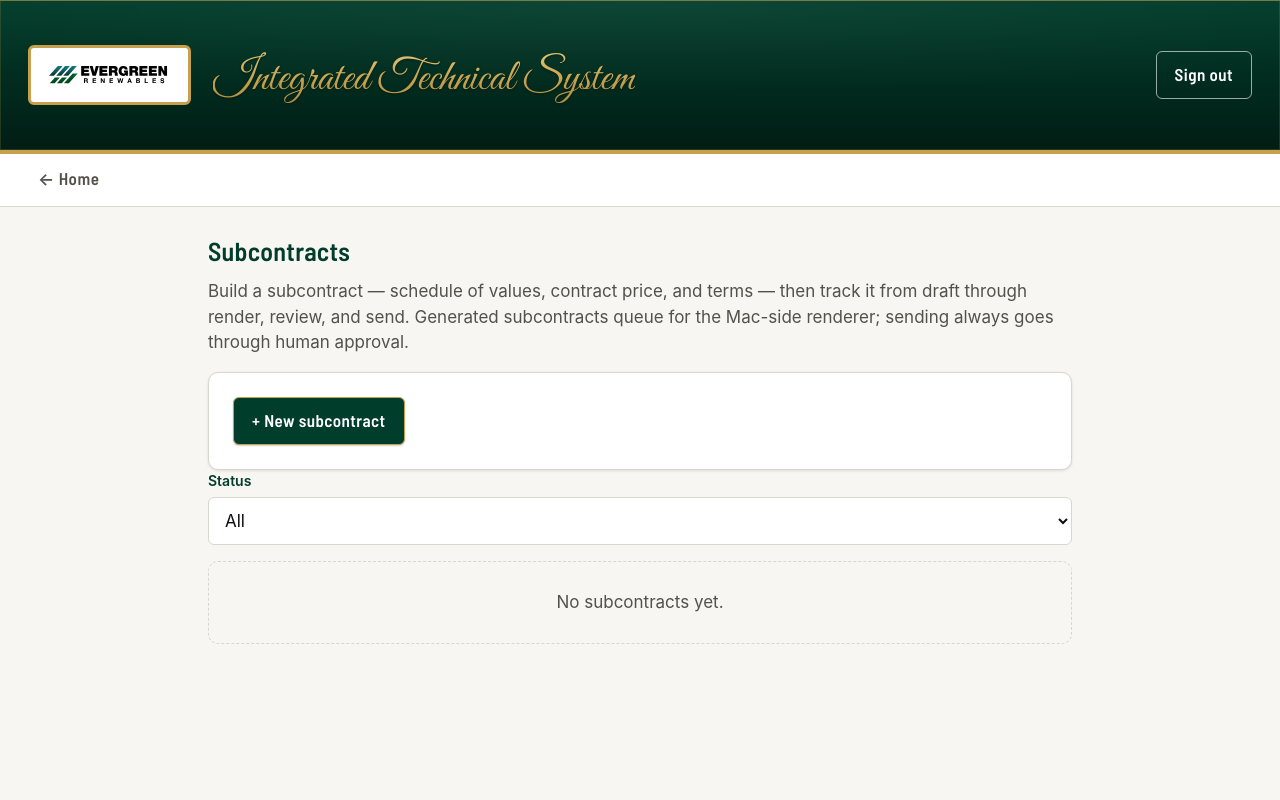
Scenario: SubcontractBuilderPage › suggests the job number from the YYYY.NNN project-name prefix (editable)
Step 1. Click the button "+ New subcontract" → (319, 421), box left=233, top=397, right=404, bottom=445
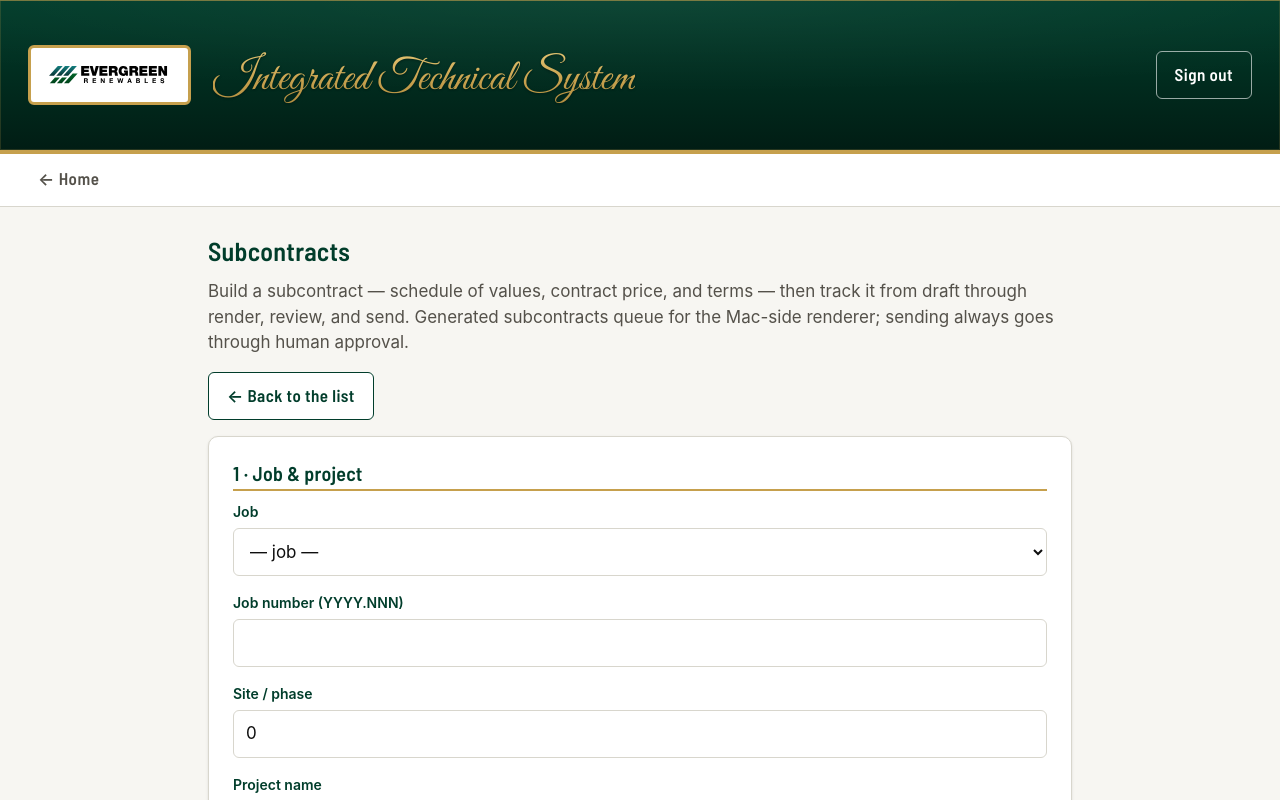
Step 2. Select "2023.126 Kendall Solar" in the dropdown labelled "Job" → (640, 552), box left=233, top=528, right=1047, bottom=576
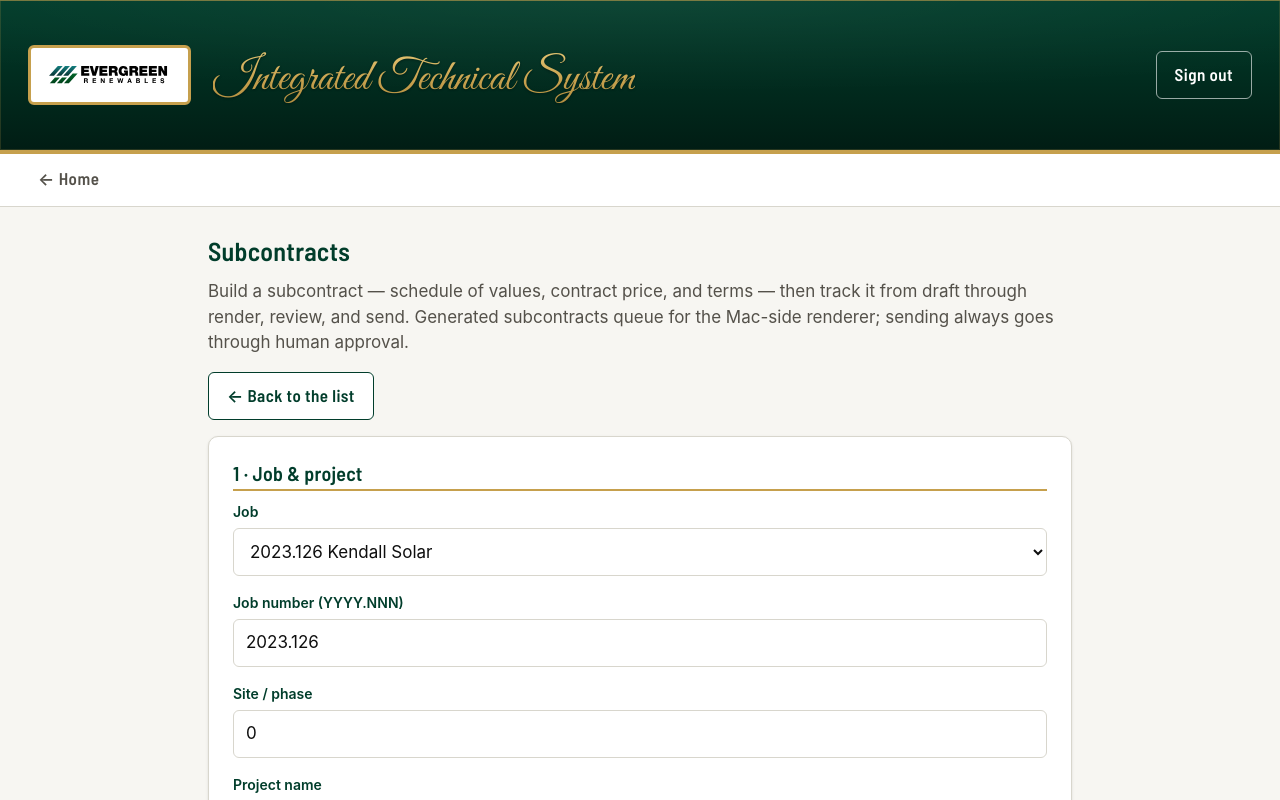
Result: the field labelled "Job number (YYYY.NNN)" holds "2023.126"
Step 3. Replace the text in the field labelled "Job number (YYYY.NNN)" with "bogus" → (640, 643), box left=233, top=619, right=1047, bottom=667
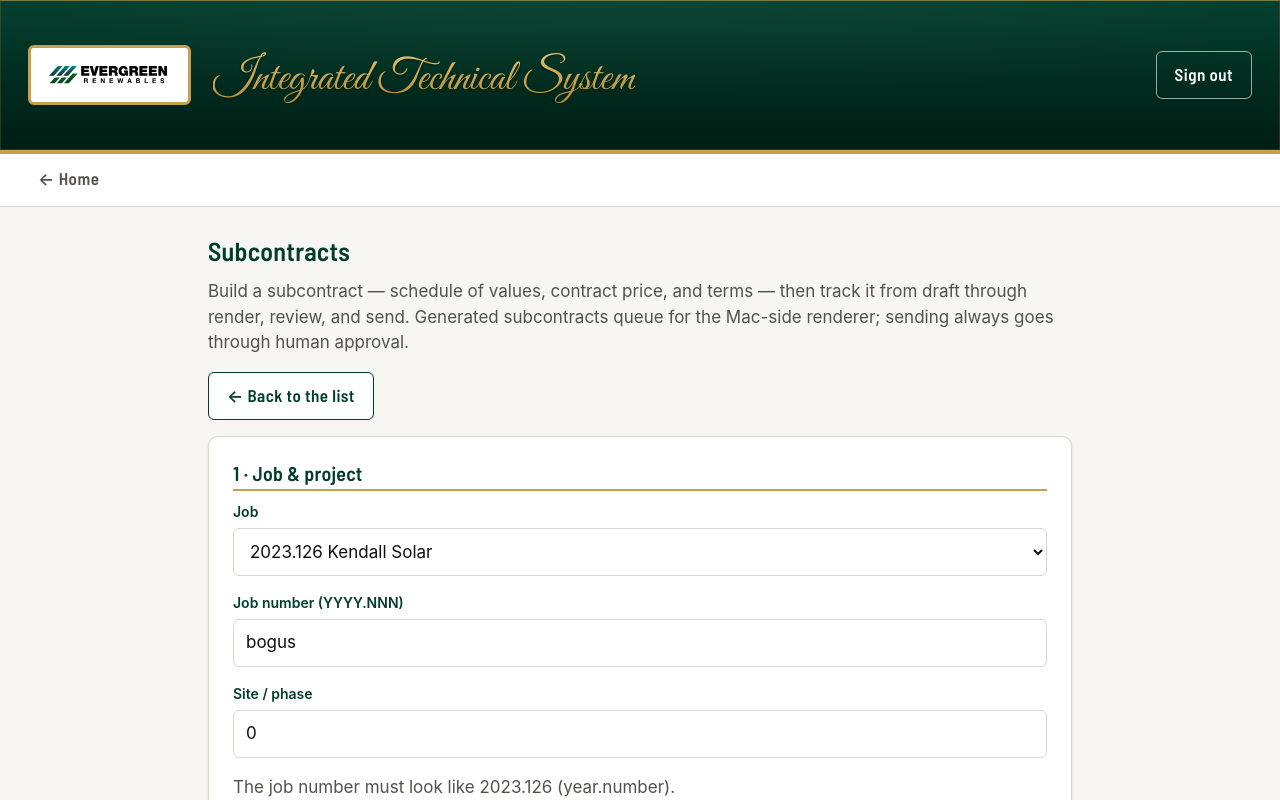
Result: the text "The job number must look like 2023.126 (year.number)." is shown at left=233, top=777, right=675, bottom=797
